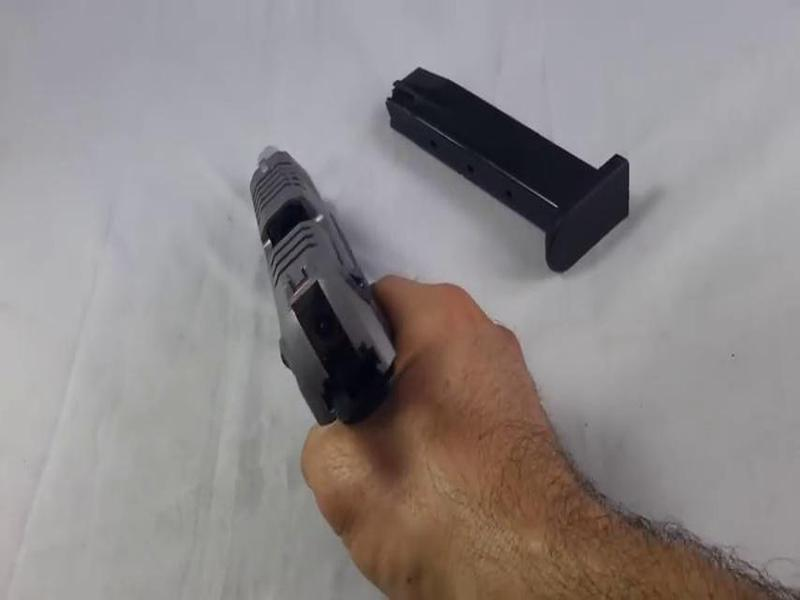Pistola: (198, 129, 453, 442)
